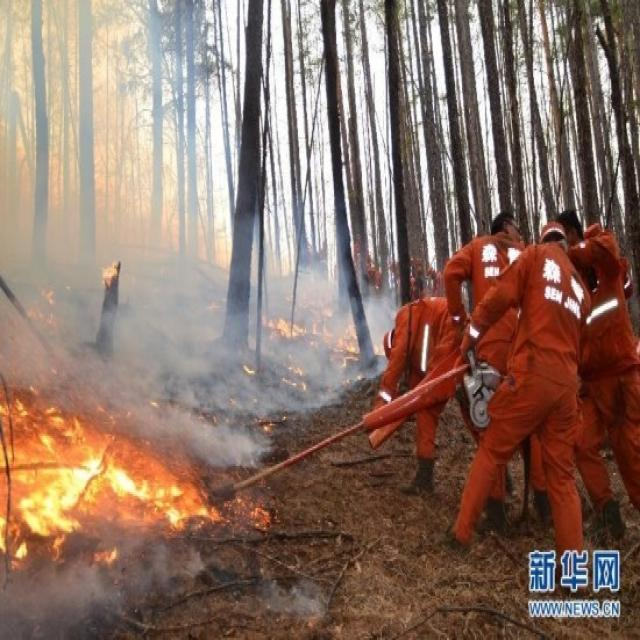Fire: (1, 384, 279, 564), (261, 300, 362, 368), (100, 260, 119, 287), (242, 364, 255, 374)
Smoke: (1, 1, 403, 472), (1, 522, 328, 638)
